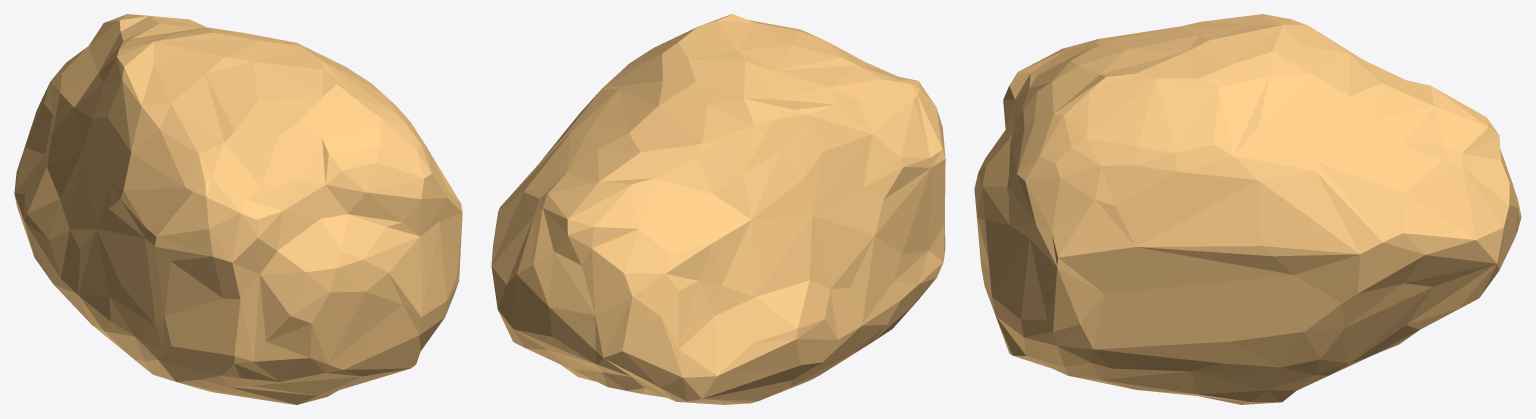
File: Rock 02.FBX
3 views of the same model, side by side, from view 1: azimuth 30°, elevation 25°; view 2: azimuth 150°, elevation 25°; view 3: azimuth 270°, elevation 25° (orthographic). The views are drawn at different scales.
Visible parts, largest first — view 1: cube; view 2: cube; view 3: cube.
Boxes of the visible parts, x1,y1,x2,y2 form: cube: [14, 14, 462, 404]; cube: [491, 14, 945, 404]; cube: [974, 14, 1521, 404].
Bounding box in the file's own units: 62.31 × 60.25 × 96.23.
